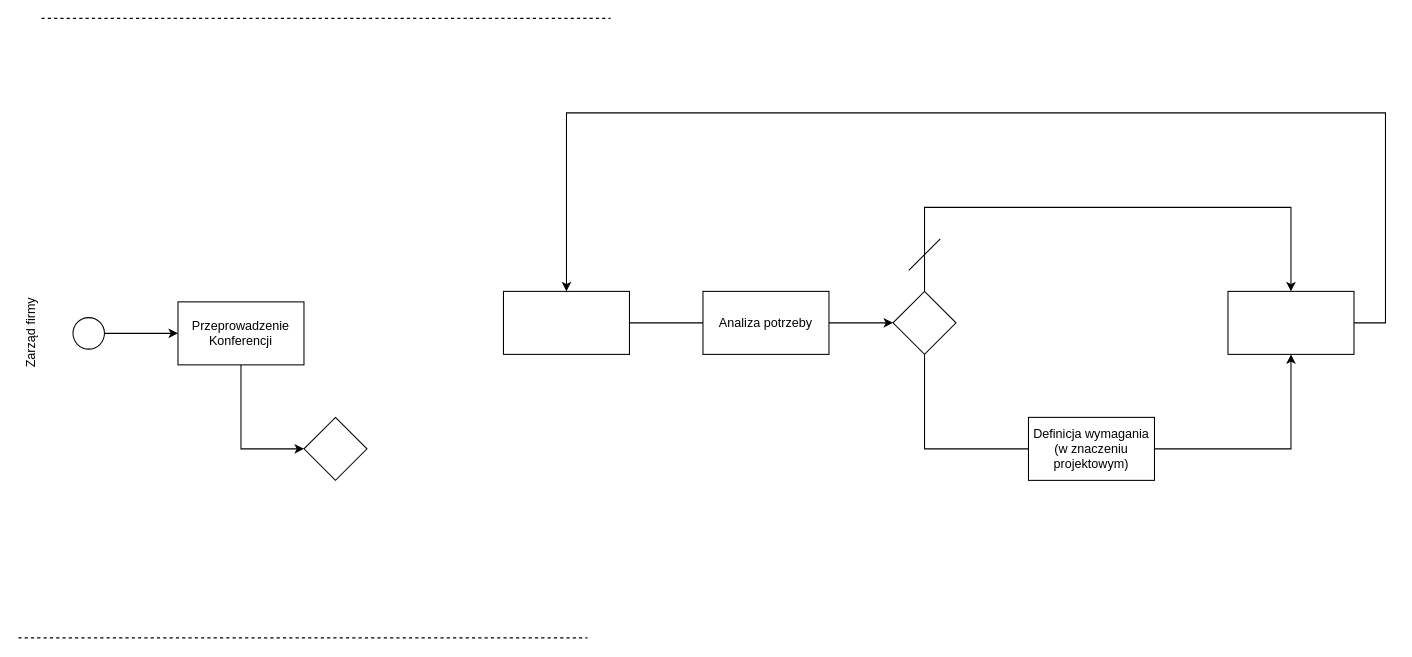
This 1412x657 diagram has some shape labels left out. The centre of each missing label's shape, as x and y in pixels:
"Ankietyzacja pracownika" goes at (565,322).
"Czy zostali pracownicy? (do ankietyzacji)" goes at (1290,322).
